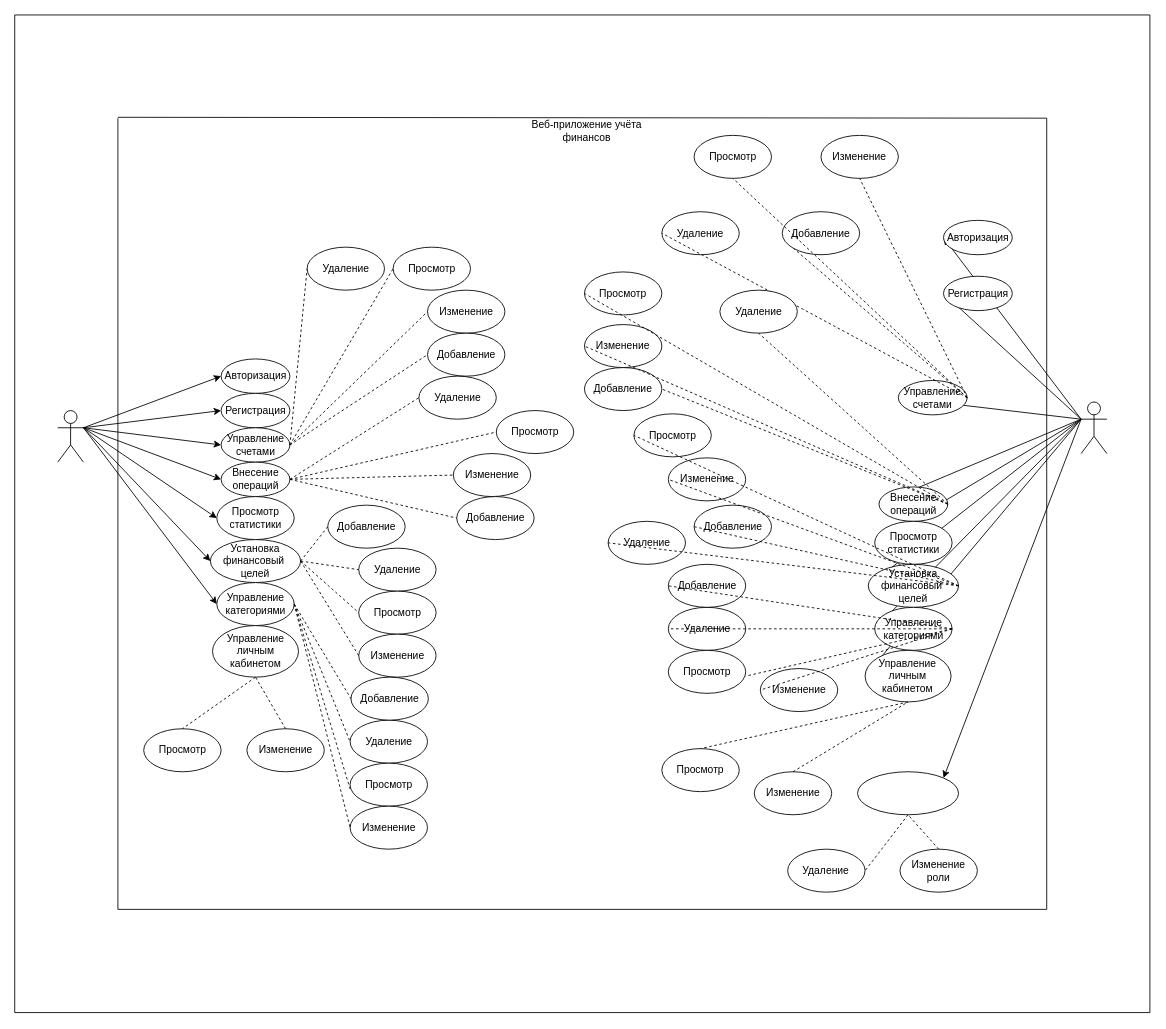
Some shapes in this 1166 by 1029 pixel diagram are drawn without their labels. The shapes that lost their labels are listed below. From the top down, each one's box as (x1, y1, x2, y2) in pixels, then its label:
(57, 410, 84, 462): Пользователь
(1080, 401, 1107, 454): Администратор
(857, 771, 959, 815): Управление пользователями
